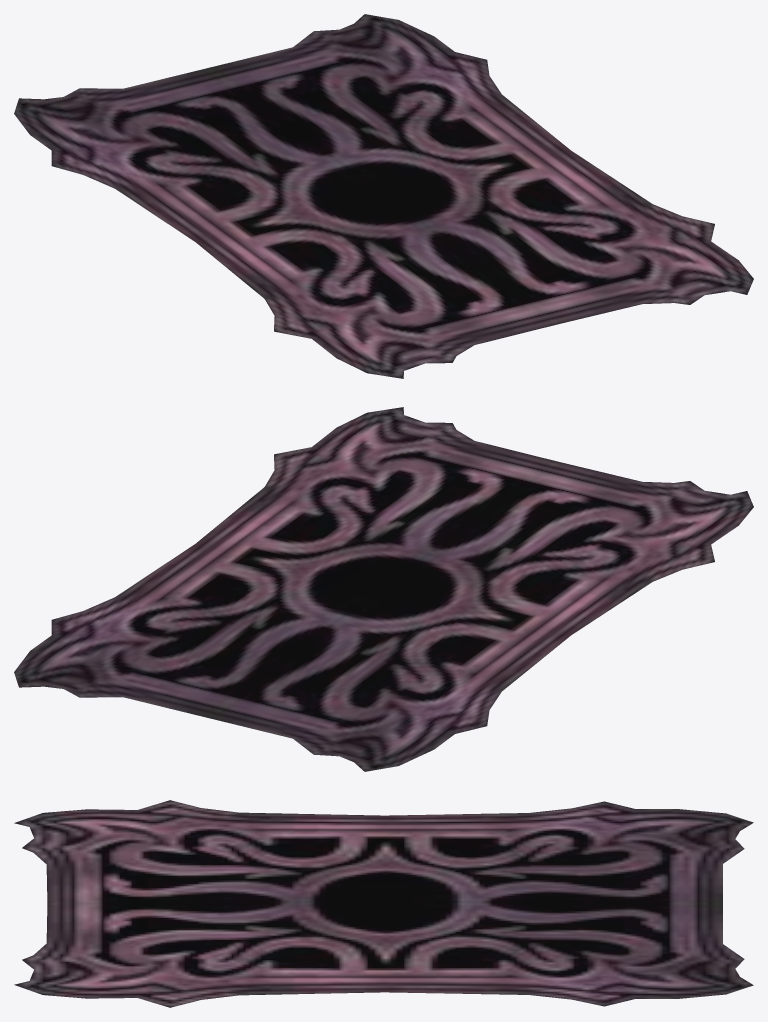
Rendered from juju.glb.
3 views of the same model, one above another, from view 1: azimuth 30°, elevation 25°; view 2: azimuth 150°, elevation 25°; view 3: azimuth 270°, elevation 25° (orthographic). The views are drawn at different scales.
Visible parts, largest first — view 1: model_juju; view 2: model_juju; view 3: model_juju.
Part boxes in pixels (x1,y1,x2,y2): model_juju: (14,14,753,378); model_juju: (14,407,753,771); model_juju: (14,800,753,1007).
Bounding box in the file's own units: 0.3681 × 0.00463 × 0.5543.
1 material, 1 textured.
